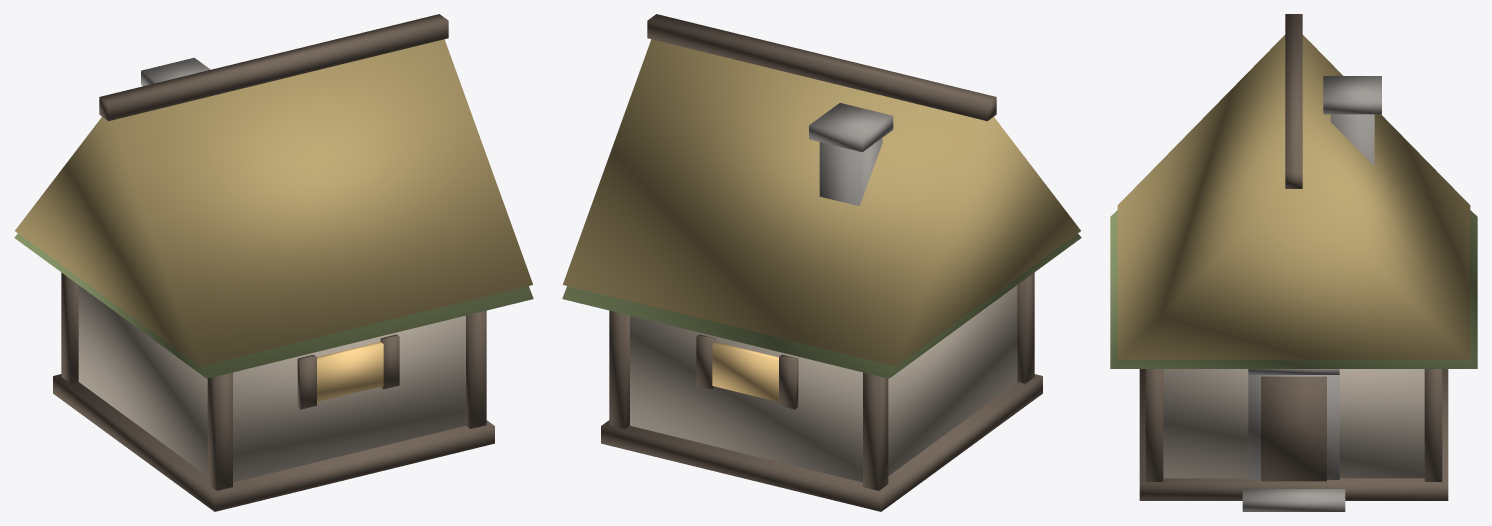
Rendered from hut.glb.
3 renders of one model, left to right at view 1: azimuth 30°, elevation 25°; view 2: azimuth 150°, elevation 25°; view 3: azimuth 270°, elevation 25°, orthographic. The views are drawn at different scales.
Visible parts, largest first — view 1: thatch, walls, plinth, ridge, posts, eave, window, shutters, chimney; view 2: thatch, walls, plinth, ridge, posts, eave, chimney, window, shutters; view 3: thatch, walls, plinth, door, eave, posts, chimney, frame, ridge, step.
Boxes of the visible parts, x1=… form: thatch: x1=15, y1=39, x2=532, y2=366; walls: x1=78, y1=285, x2=465, y2=482; plinth: x1=53, y1=374, x2=494, y2=511; ridge: x1=99, y1=14, x2=448, y2=121; posts: x1=61, y1=272, x2=486, y2=490; eave: x1=14, y1=233, x2=533, y2=378; window: x1=317, y1=342, x2=383, y2=401; shutters: x1=297, y1=334, x2=399, y2=409; chimney: x1=141, y1=57, x2=210, y2=86; thatch: x1=563, y1=39, x2=1080, y2=366; walls: x1=630, y1=285, x2=1017, y2=482; plinth: x1=601, y1=374, x2=1042, y2=511; ridge: x1=647, y1=14, x2=996, y2=121; posts: x1=609, y1=272, x2=1034, y2=490; eave: x1=562, y1=233, x2=1081, y2=378; chimney: x1=809, y1=103, x2=893, y2=206; window: x1=712, y1=342, x2=778, y2=401; shutters: x1=696, y1=334, x2=798, y2=409; thatch: x1=1117, y1=35, x2=1470, y2=360; walls: x1=1163, y1=369, x2=1424, y2=478; plinth: x1=1139, y1=369, x2=1448, y2=500; door: x1=1261, y1=376, x2=1326, y2=481; eave: x1=1110, y1=210, x2=1477, y2=368; posts: x1=1145, y1=369, x2=1442, y2=481; chimney: x1=1323, y1=76, x2=1381, y2=166; frame: x1=1248, y1=369, x2=1339, y2=479; ridge: x1=1285, y1=14, x2=1302, y2=188; step: x1=1242, y1=489, x2=1345, y2=511.
Bounding box in the file's own units: 5.1 × 5.15 × 5.
